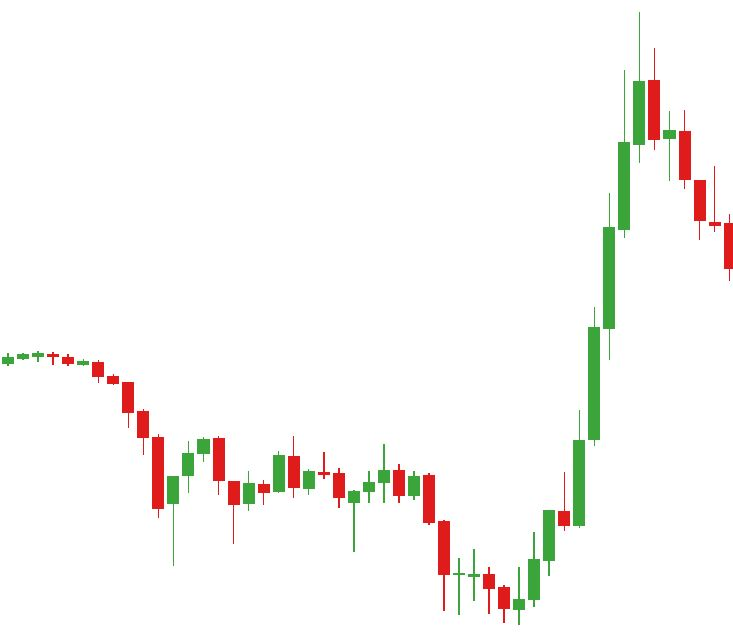sell: (316, 443, 407, 527)
